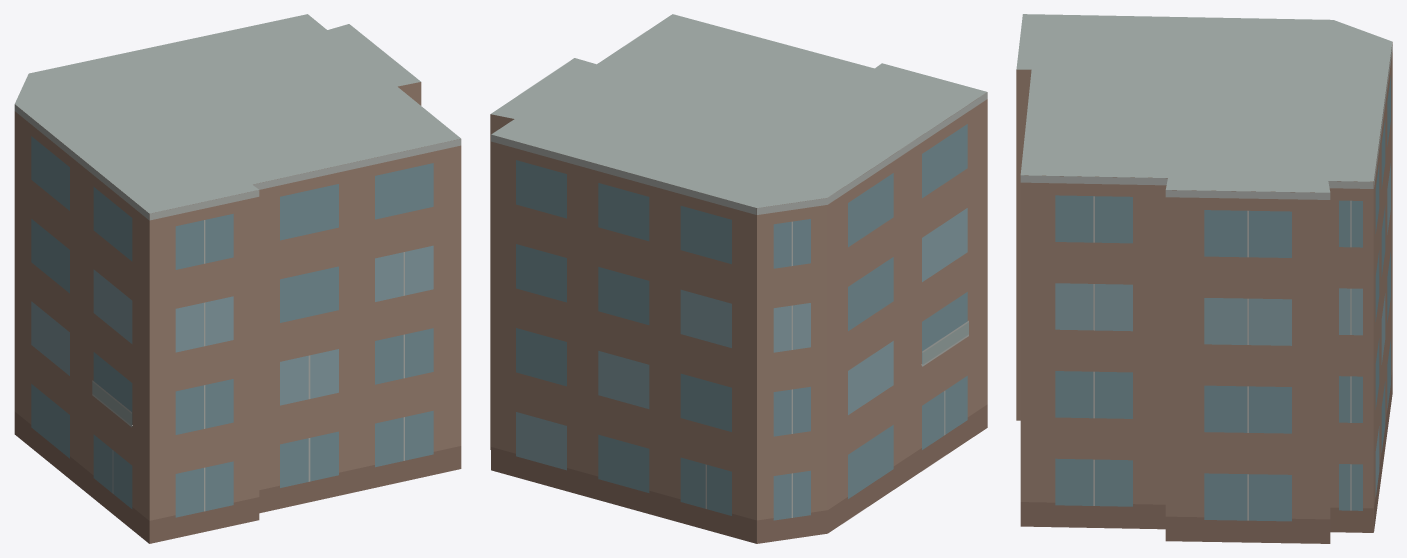
File: survey-upis-32646223.glb
The picture shows the model from 3 angles, left to right: view 1: azimuth 30°, elevation 25°; view 2: azimuth 150°, elevation 25°; view 3: azimuth 270°, elevation 25°; orthographic projection. The views are drawn at different scales.
Visible parts, largest first — view 1: survey-upis-32646223.tmp; view 2: survey-upis-32646223.tmp; view 3: survey-upis-32646223.tmp.
Boxes of the visible parts, box(x1,y1,x2,y2) form: survey-upis-32646223.tmp: box(14, 14, 461, 543); survey-upis-32646223.tmp: box(490, 14, 987, 543); survey-upis-32646223.tmp: box(1016, 14, 1392, 543).
Size of the model in its own units: 12.78 by 11.7 by 11.37.
